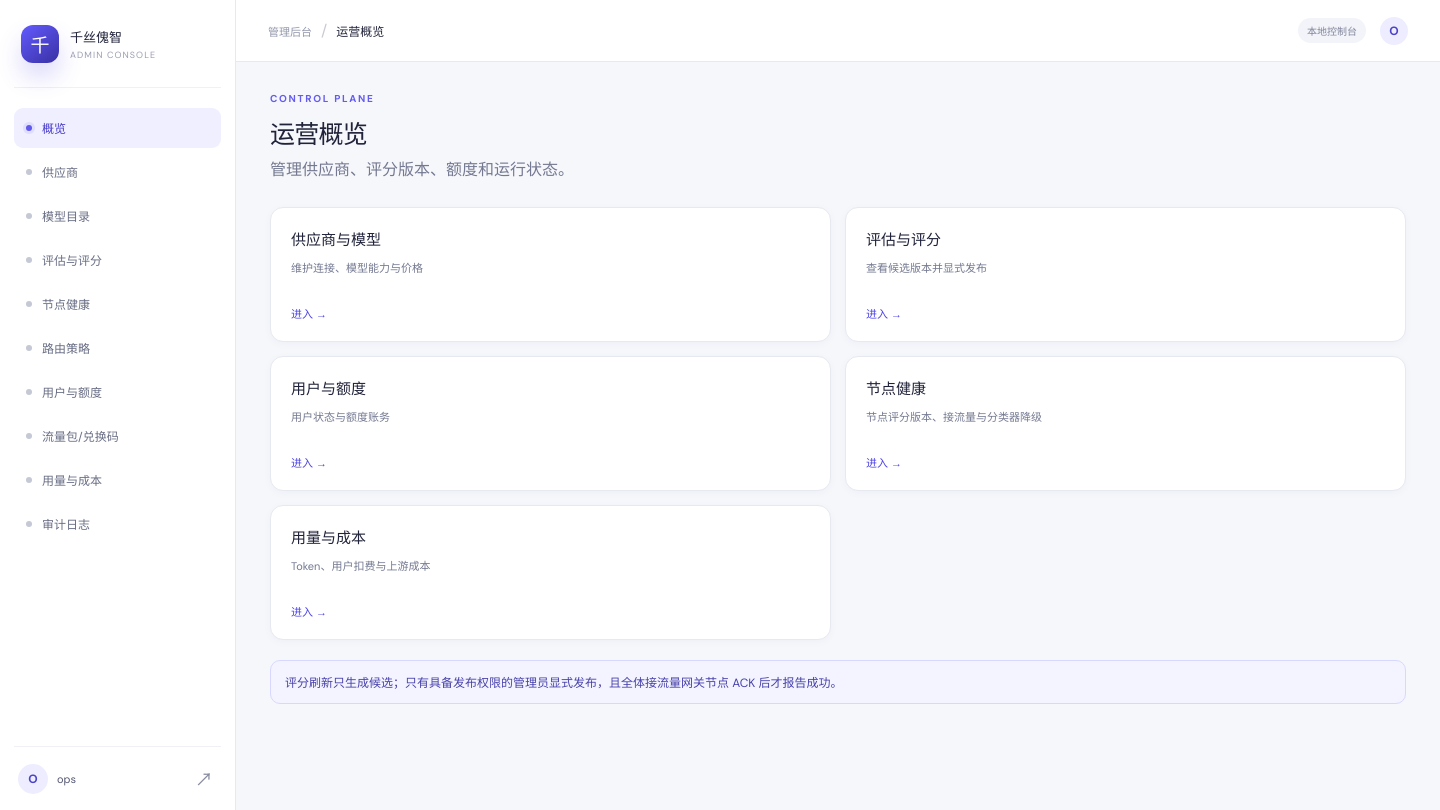
Test: admin evaluation and cost pages › marks a node with an unready classifier as degraded while still serving traffic
What coordinates should you click on to do the following:
click the button "节点健康"
I would click on:
 (118, 304)
Its box is [14,284,221,324].
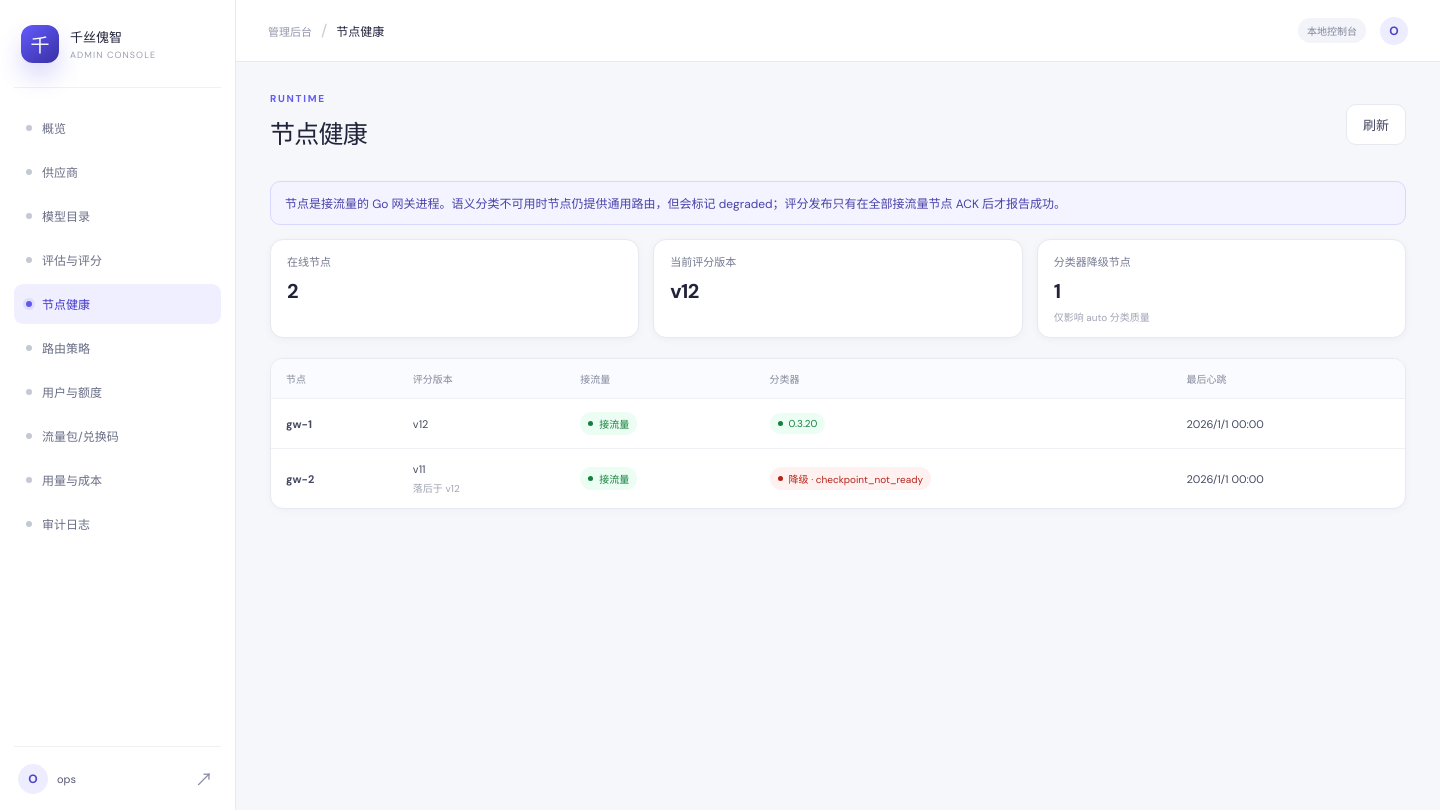
Expected: the text "gw-1" is shown, [286,416,312,430]
Expected: the text "gw-2" is shown, [286,472,314,486]
Expected: the text "降级 · checkpoint_not_ready" is shown, [770,467,931,490]
